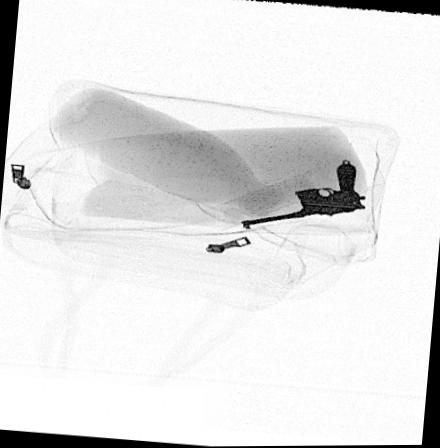Gun: (239, 165, 366, 230)
